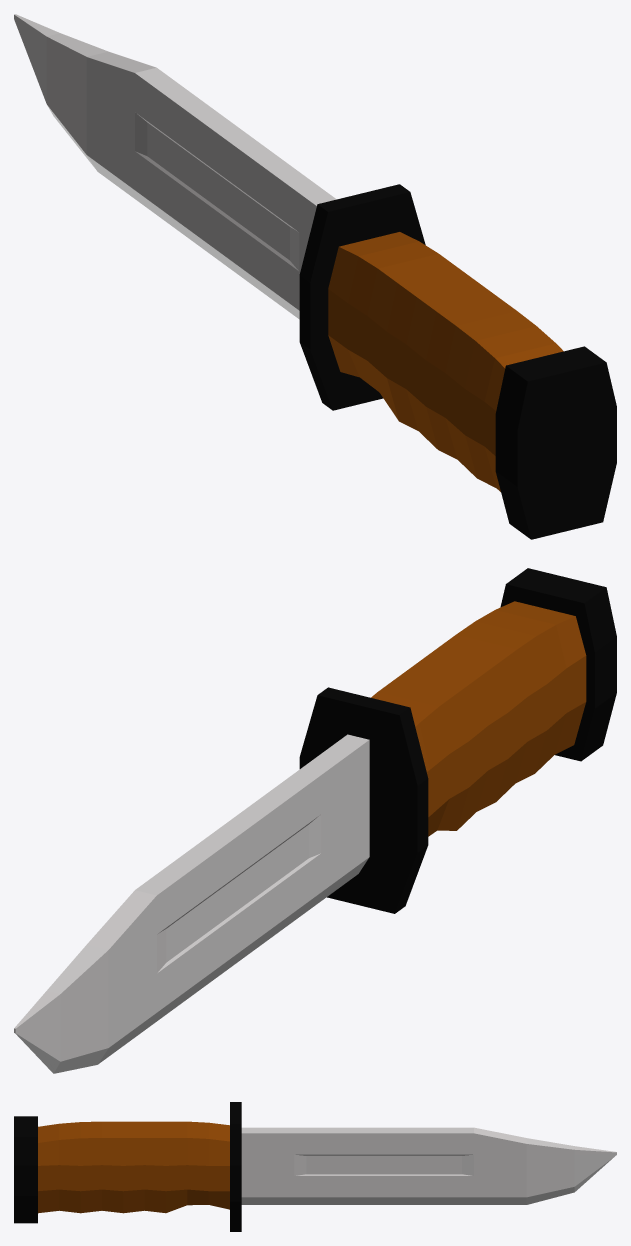
The model's file is knife.fbx.
3 renders of one model, top to bottom at view 1: azimuth 30°, elevation 25°; view 2: azimuth 150°, elevation 25°; view 3: azimuth 270°, elevation 25°, orthographic. The views are drawn at different scales.
Visible parts, largest first — view 1: Cube; view 2: Cube; view 3: Cube.
Boxes of the visible parts, <box> form: Cube: <box>14,14,616,539</box>; Cube: <box>14,568,616,1073</box>; Cube: <box>14,1102,616,1231</box>.
Size of the model in its own units: 178 by 288 by 1442.
